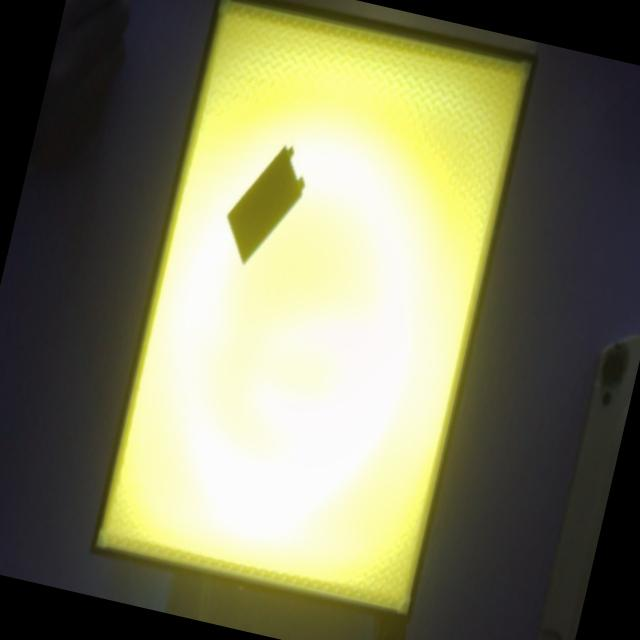bateria: (226, 144, 304, 263)
mesa: (89, 0, 538, 625)
